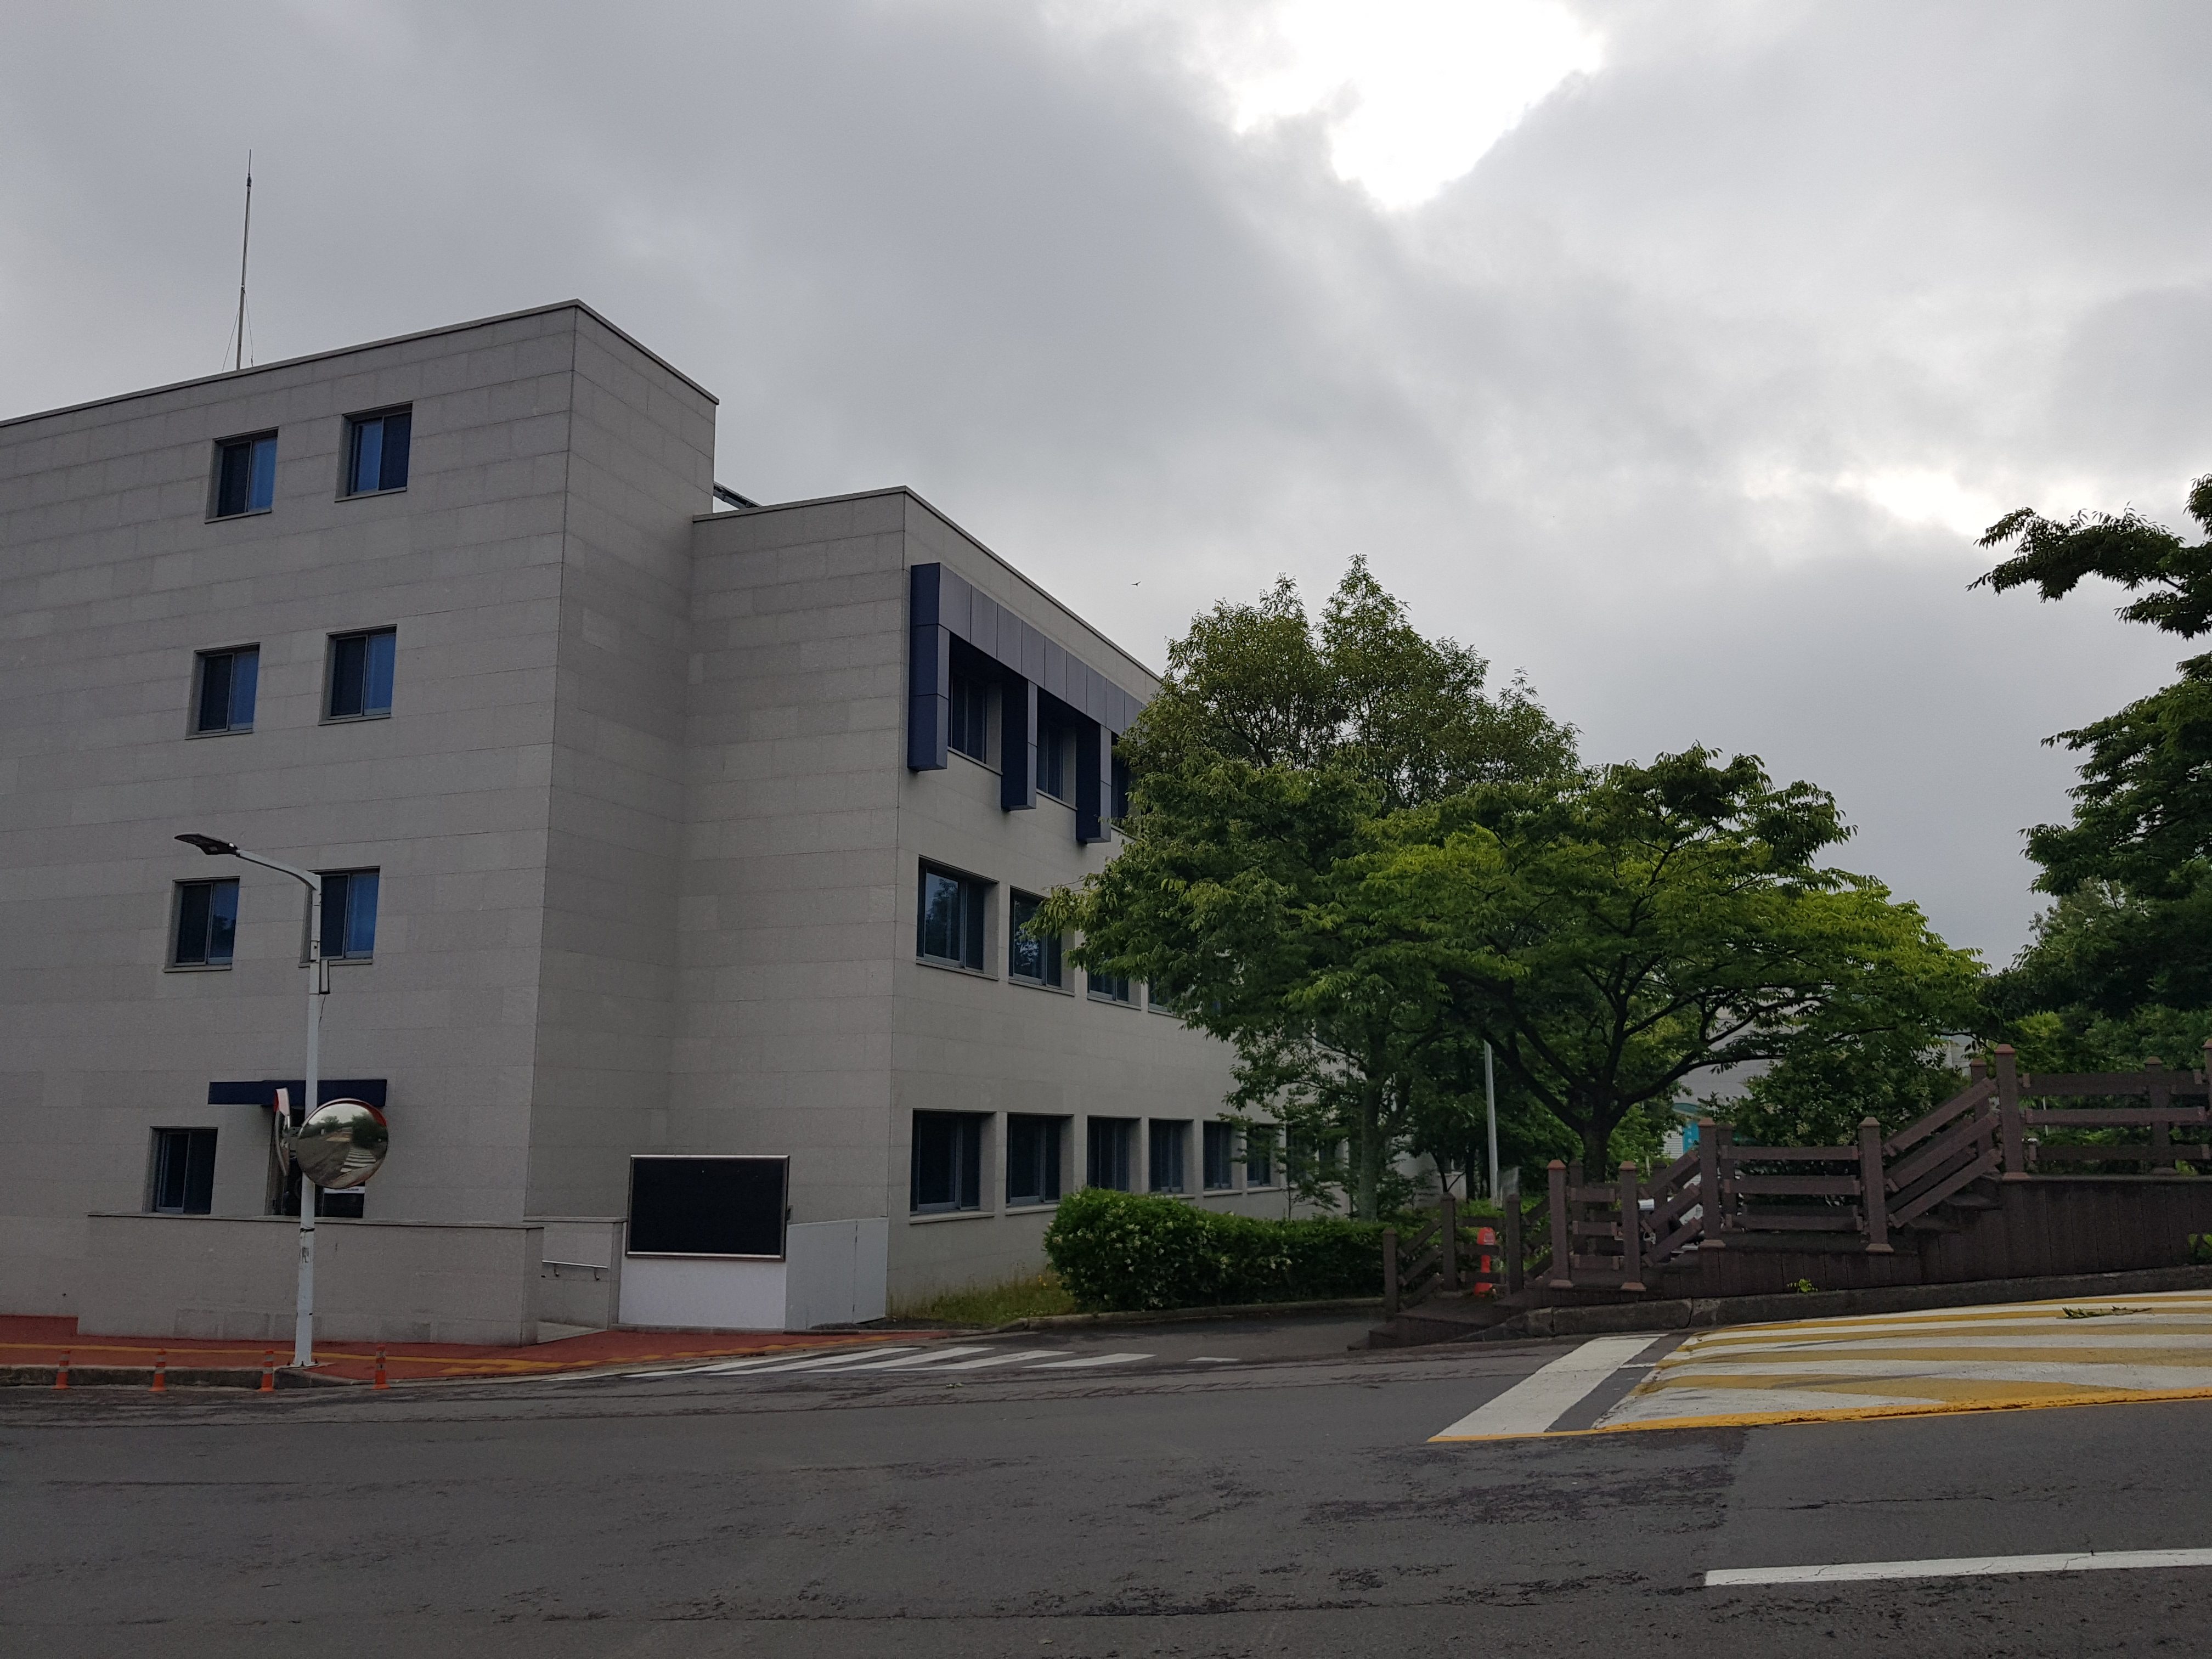College of Social Sciences: (21, 326, 1268, 1347), (16, 310, 721, 1370), (705, 432, 1284, 1324), (157, 368, 453, 1227)
